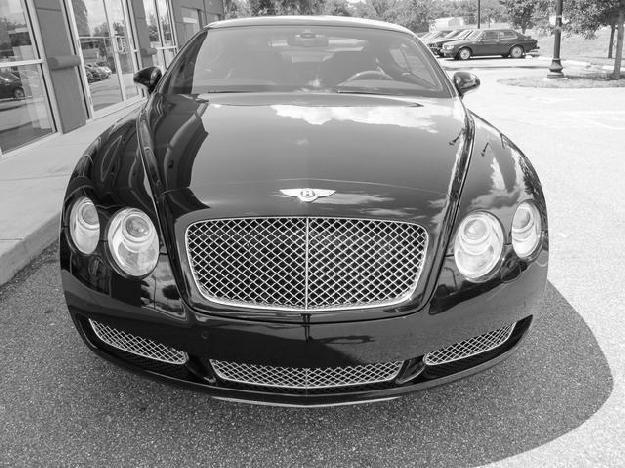car: (57, 15, 553, 415)
